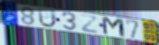3: (62, 11, 78, 32)
7: (125, 19, 141, 40)
8: (20, 7, 36, 26)
M: (101, 15, 127, 39)
U: (36, 8, 57, 29)
Z: (80, 14, 100, 35)
